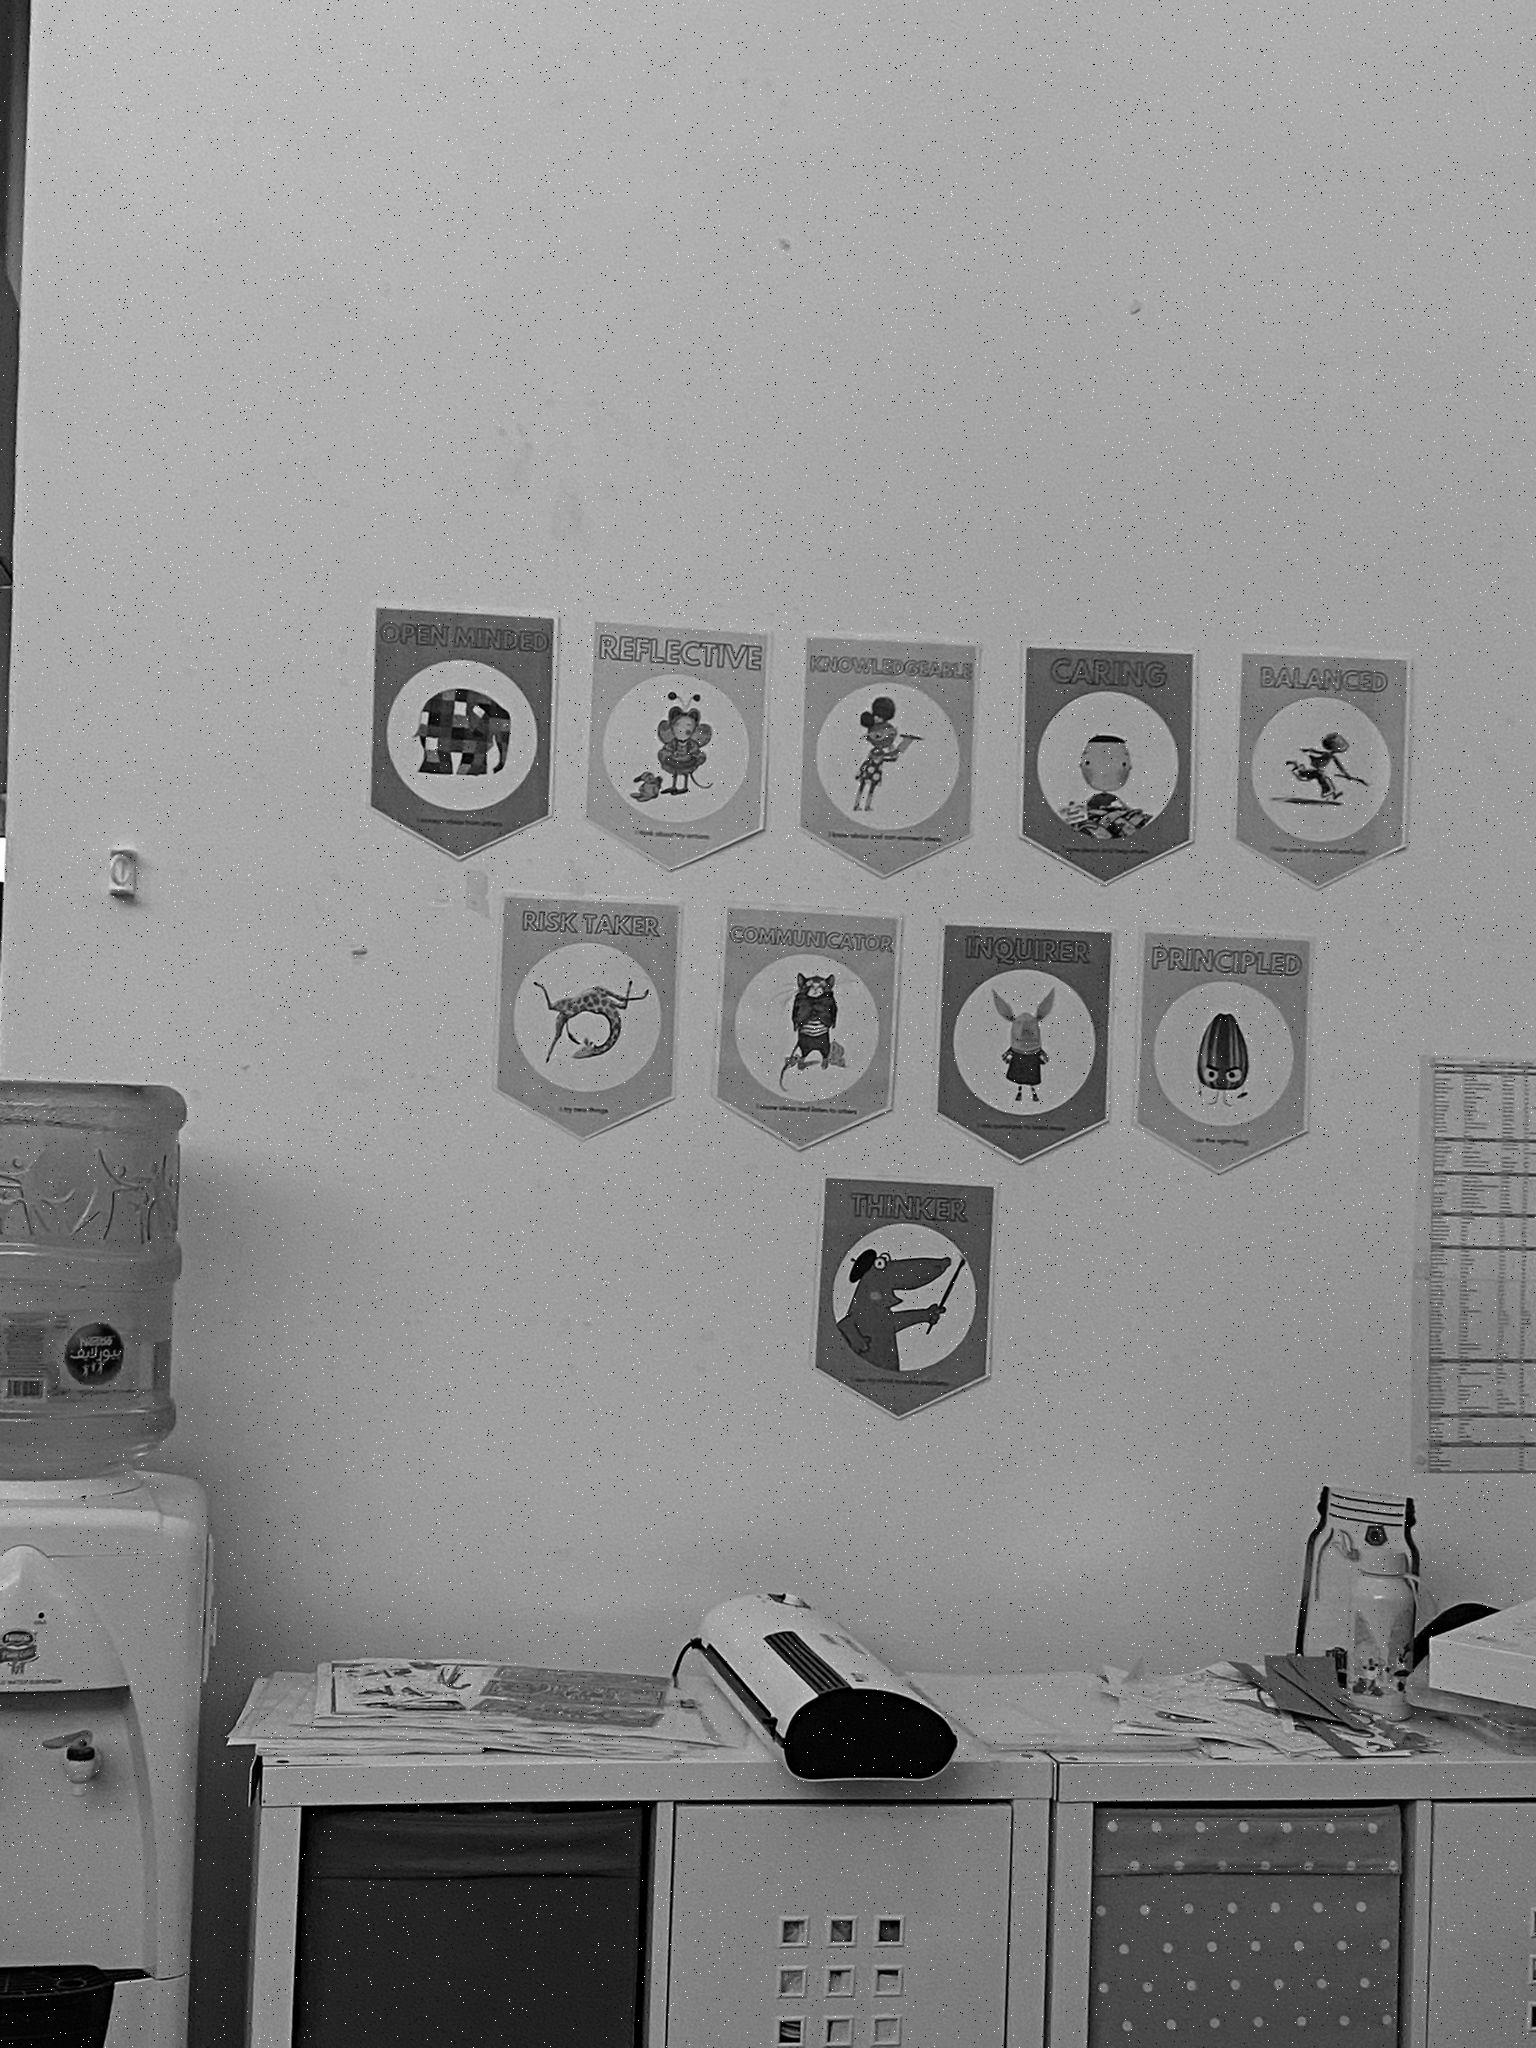Wall: (6, 0, 1534, 1708)
